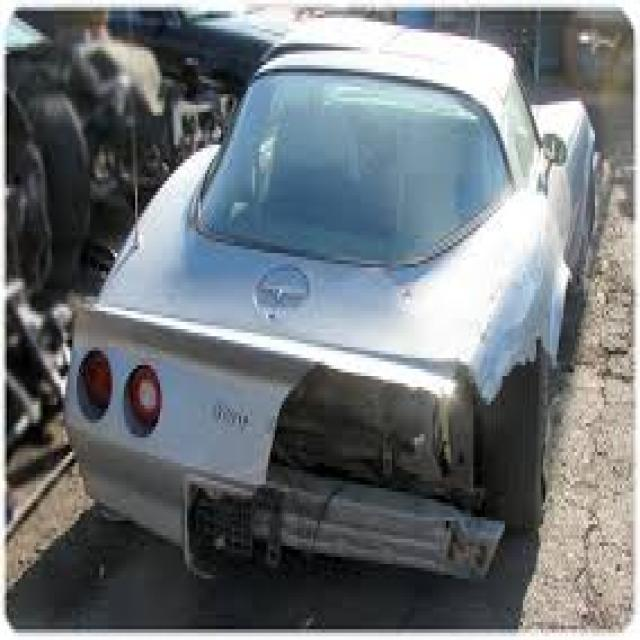moderate: (208, 306, 581, 604)
